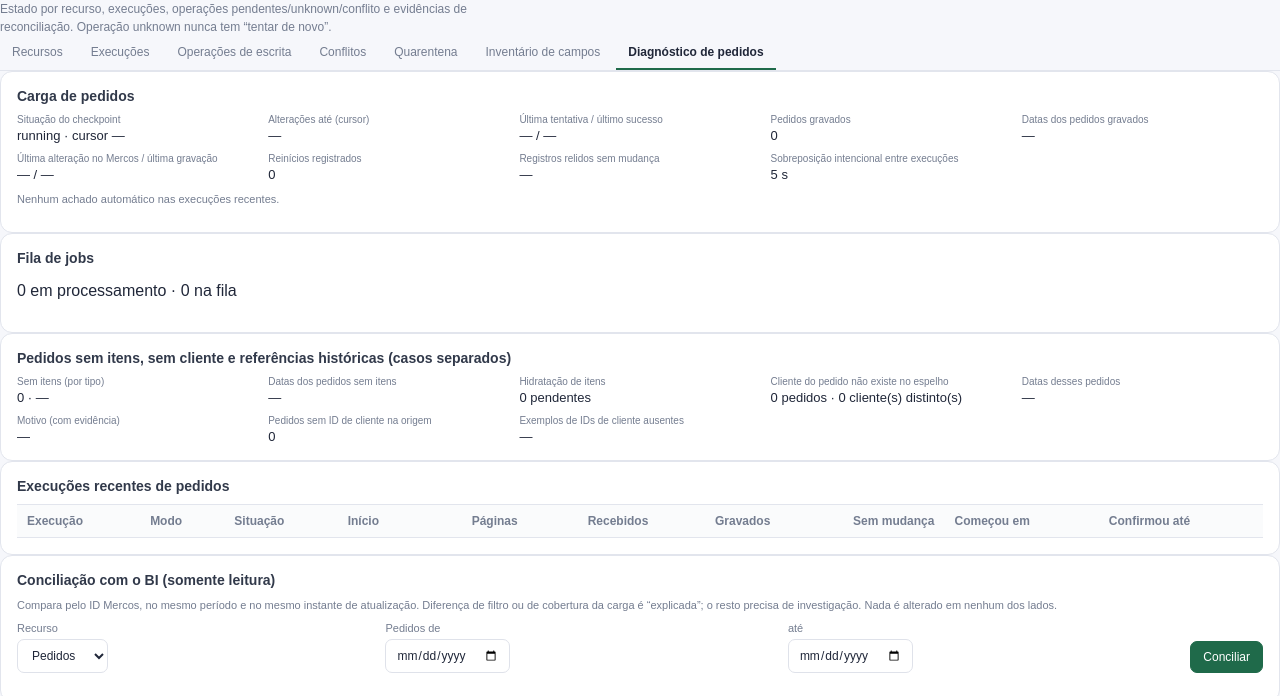
conciliação com o BI: só roda ao clicar e lista divergências explicadas e inexplicadas
Click the button "Conciliar": (1227,657) [1190,641,1263,673]
(page scrolled)
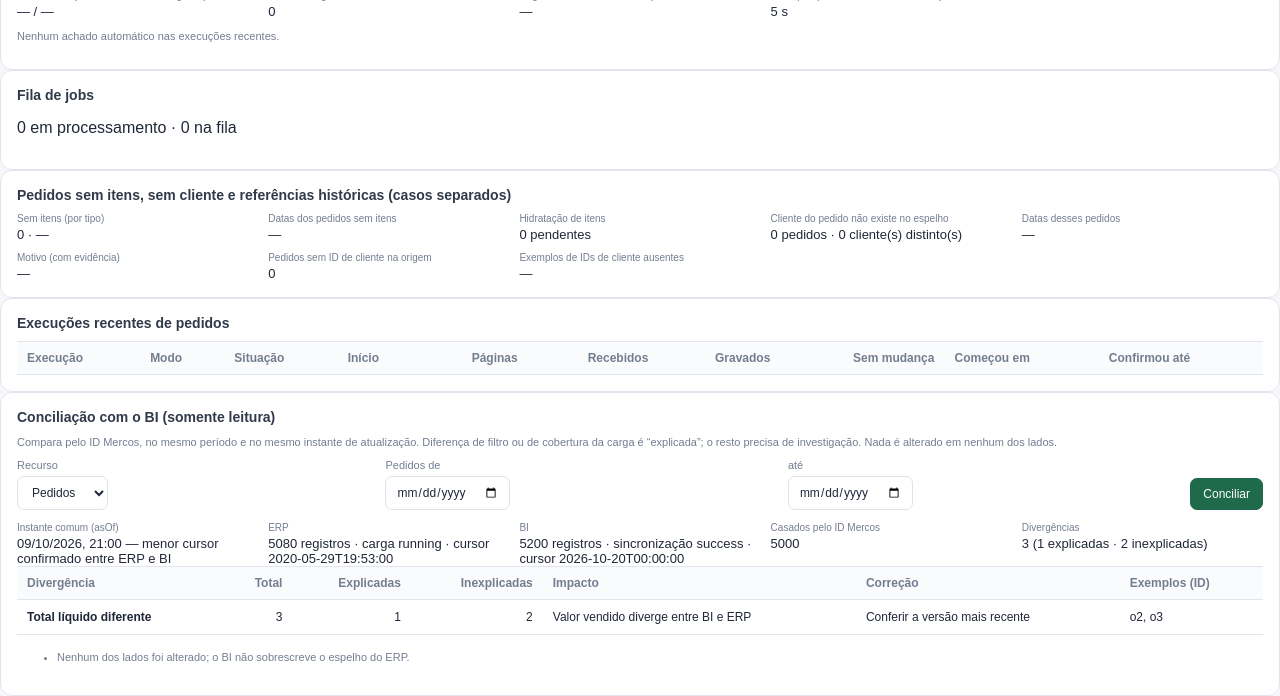
Expected: the text "Total líquido diferente" is shown, [27,610,152,624]
Expected: the text "3 (1 explicadas · 2 inexplicadas)" is shown, [1022,536,1208,551]
Expected: the text "o2, o3" is shown, [1120,600,1263,634]
